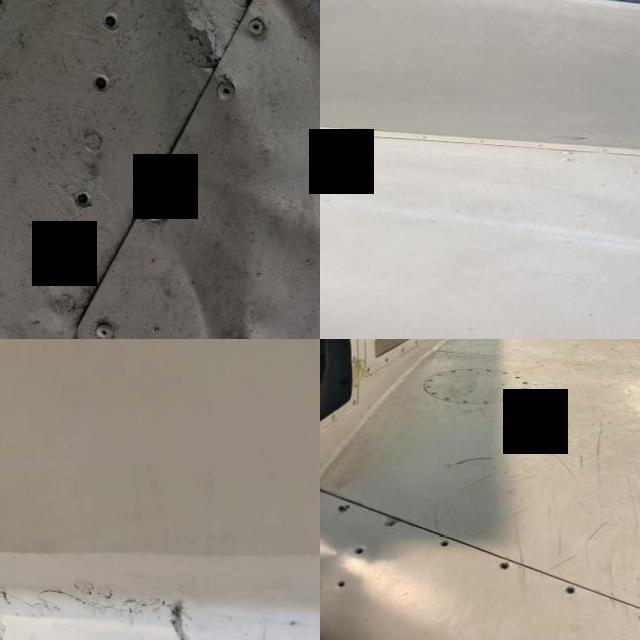Crack: (0, 587, 189, 622)
Dent: (107, 0, 320, 339)
Missing_Fastener: (492, 560, 508, 571), (556, 586, 572, 596), (430, 540, 448, 548), (328, 580, 342, 590), (349, 546, 360, 554)
